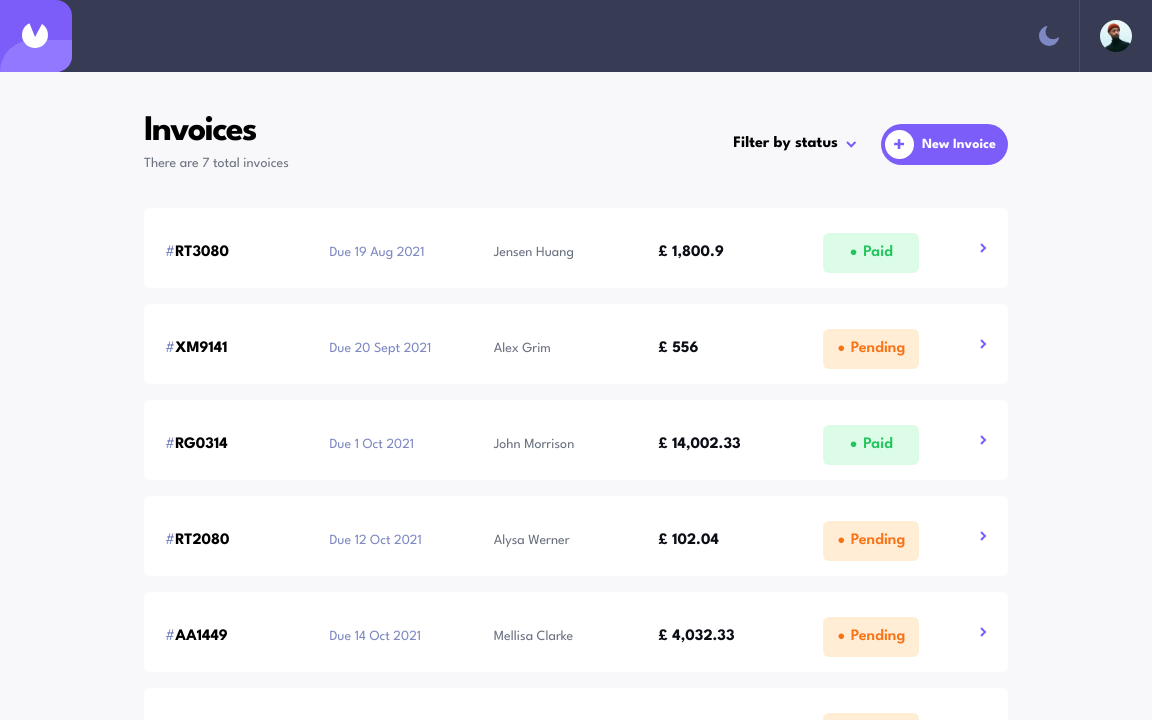
Test: main page › should hide the filter-ul when clicked anywhere except filter-btn
The width and height of the screenshot is (1152, 720).
Step 1. Click the button with test id "filter-btn" → (795, 144), box [733, 132, 857, 156]
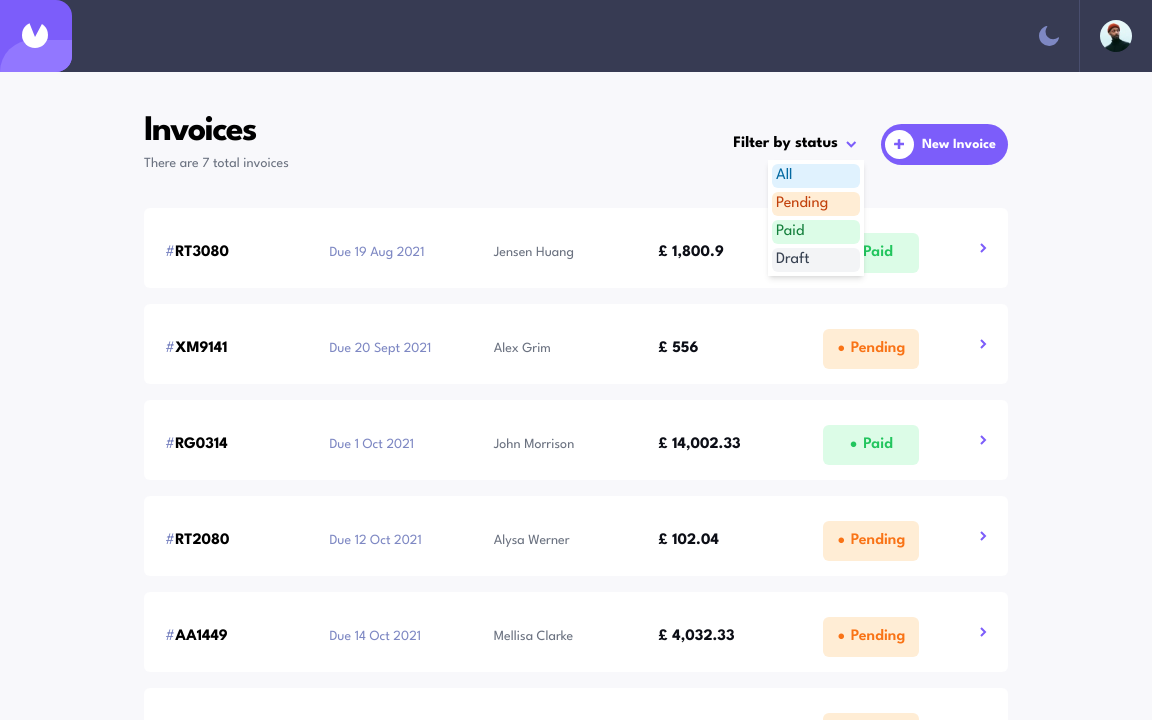
expect the list with test id "filter-ul" is shown: met, box [768, 160, 864, 276]
Step 2. Click the element that starts with "Invoices" → (1, 1), box [0, 0, 1151, 719]
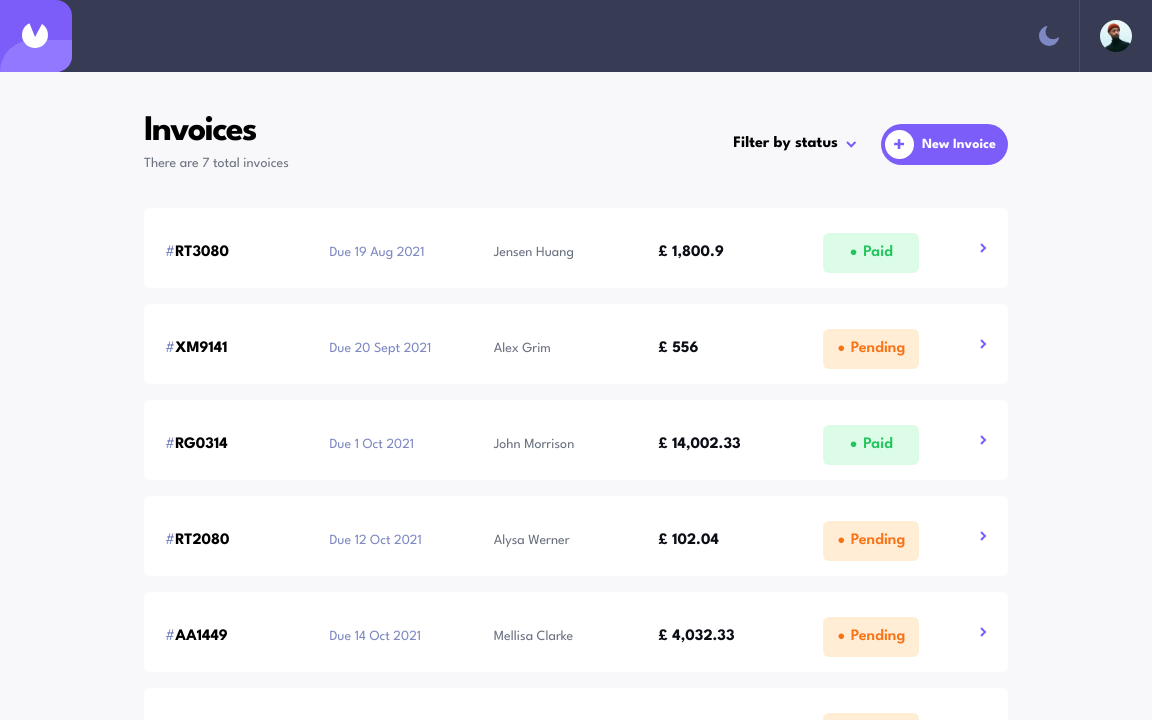
expect the list with test id "filter-ul" is gone: met
